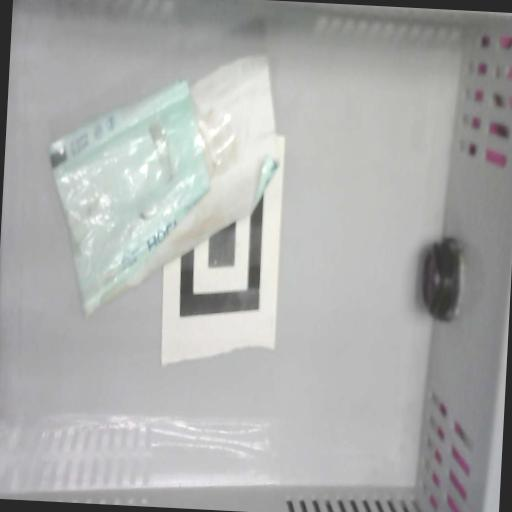QR: (162, 179, 284, 365)
triple_syringe: (46, 40, 282, 318)
